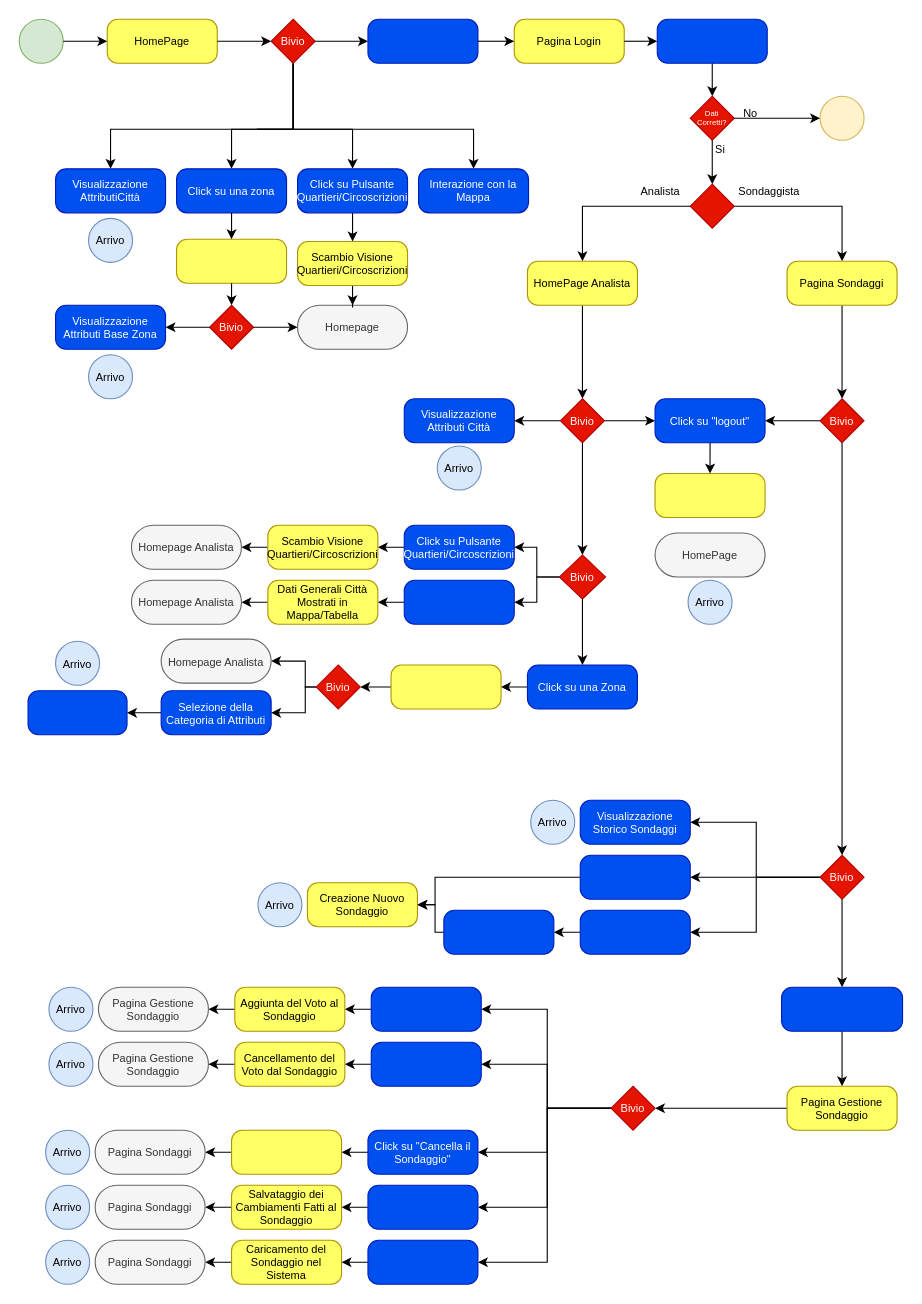
This 922x1304 diagram has some shape labels left out. The shapes that lost their labels are listed below. From the top down, each one's centre as x and y in pixels, then its label:
(40,40): Inizio
(422,40): Click su Icona di Login
(711,40): Inserimento username e Password
(841,117): Pausa
(711,205): Tipo Utente?
(231,260): Pagina Zona
(709,495): Termine Sessione
(458,601): Click su Pulsante Mappa/Tabella
(445,686): Pagina Zona Analista
(77,712): Visualizzazione Dati Zone
(634,876): Click su "Carica un Sondaggio" e Selezione del File
(498,931): Inserimento Titolo del Sondaggio
(634,931): Click su "Crea Un Nuovo Sondaggio"
(425,1008): Compilazione Dati Cittadino e Click su "Vota"
(841,1008): Click su un Sondaggio
(425,1063): Click sul Pulsante "Elimina" Accanto a un Voto
(286,1151): Eliminazione del Sondaggio
(422,1206): Click su "Salva ed Esci"
(422,1261): Click su "Termina e Carica il Sondaggio"
